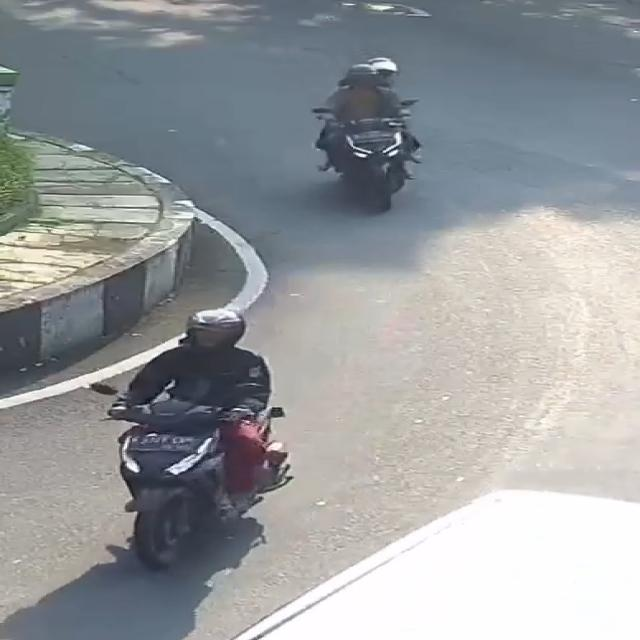helm: (342, 63, 384, 90), (365, 57, 401, 82)
motor: (85, 304, 308, 580), (304, 52, 438, 217)
spion: (393, 95, 430, 114), (308, 106, 345, 121)
